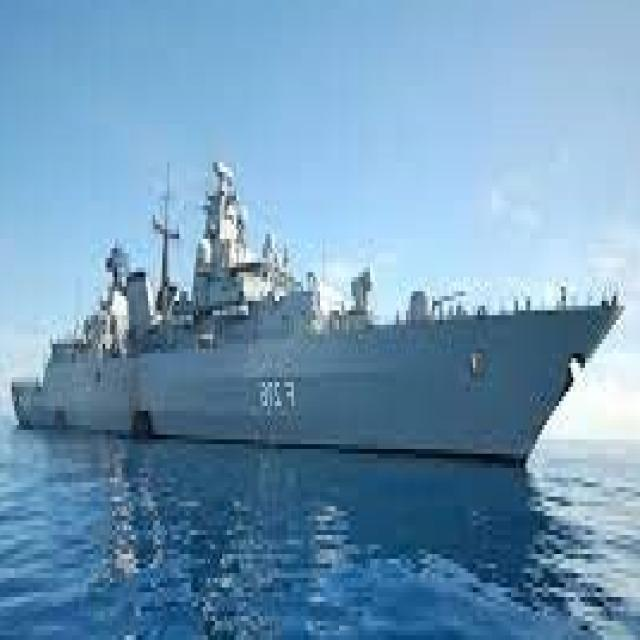navalvessels: (6, 118, 624, 458)
